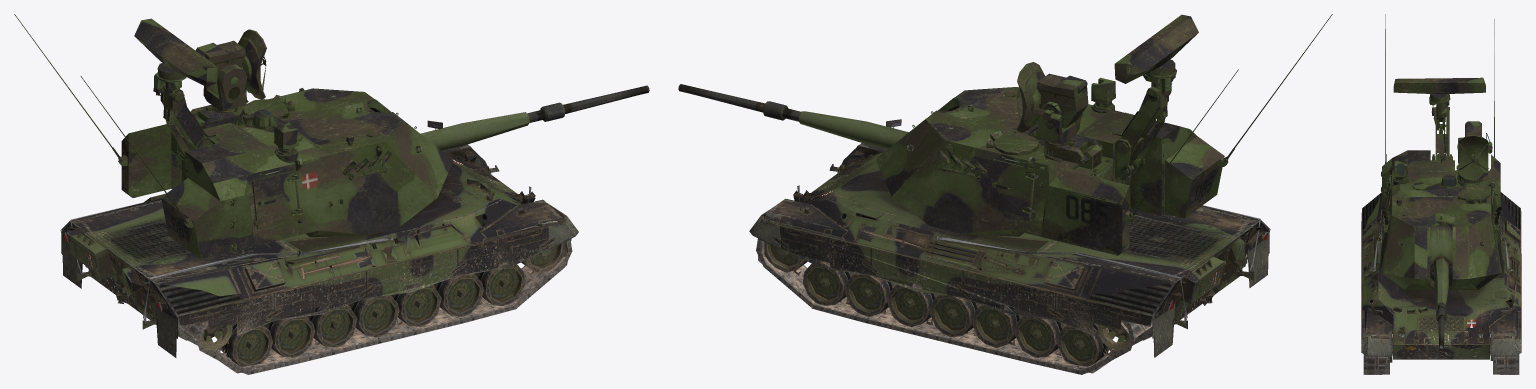
The model's file is Otomatic_DK_MID.fbx.
The picture shows the model from 3 angles, left to right: view 1: azimuth 30°, elevation 25°; view 2: azimuth 150°, elevation 25°; view 3: azimuth 270°, elevation 25°; orthographic projection. The views are drawn at different scales.
Parts seen in each view (by area): view 1: tourelle_01, Chassis, chenille_droite_01, radar, axe_canon_01, roue_d4, roue_d7, roue_d10, roue_d12, roue_d2, roue_d9, roue_d6 (+3 smaller); view 2: tourelle_01, Chassis, chenille_gauche_01, radar, axe_canon_01, roue_g7, roue_g4, roue_g10, roue_g12, roue_g2, roue_g9, roue_g6 (+3 smaller); view 3: tourelle_01, Chassis, axe_canon_01, radar, chenille_droite_01, chenille_gauche_01, canon_01, turret_glass.
Boxes of the visible parts, x1=… form: tourelle_01: x1=14, y1=14, x2=453, y2=259; Chassis: x1=60, y1=120, x2=578, y2=357; chenille_droite_01: x1=178, y1=221, x2=572, y2=374; radar: x1=134, y1=18, x2=217, y2=87; axe_canon_01: x1=420, y1=112, x2=529, y2=150; roue_d4: x1=433, y1=273, x2=483, y2=316; roue_d7: x1=348, y1=295, x2=399, y2=337; roue_d10: x1=263, y1=316, x2=314, y2=357; roue_d12: x1=221, y1=323, x2=272, y2=367; roue_d2: x1=474, y1=261, x2=525, y2=305; roue_d9: x1=307, y1=305, x2=357, y2=347; roue_d6: x1=390, y1=283, x2=441, y2=326; tourelle_01: x1=875, y1=14, x2=1332, y2=255; Chassis: x1=749, y1=119, x2=1270, y2=357; chenille_gauche_01: x1=756, y1=233, x2=1152, y2=374; radar: x1=1114, y1=14, x2=1198, y2=83; axe_canon_01: x1=799, y1=108, x2=957, y2=148; roue_g7: x1=930, y1=294, x2=981, y2=336; roue_g4: x1=845, y1=273, x2=895, y2=316; roue_g10: x1=1014, y1=316, x2=1066, y2=357; roue_g12: x1=1057, y1=323, x2=1109, y2=368; roue_g2: x1=802, y1=260, x2=854, y2=305; roue_g9: x1=972, y1=305, x2=1022, y2=347; roue_g6: x1=887, y1=283, x2=938, y2=327; tourelle_01: x1=1380, y1=14, x2=1502, y2=289; Chassis: x1=1361, y1=192, x2=1521, y2=362; axe_canon_01: x1=1430, y1=224, x2=1452, y2=308; radar: x1=1393, y1=77, x2=1485, y2=95; chenille_droite_01: x1=1363, y1=329, x2=1389, y2=374; chenille_gauche_01: x1=1493, y1=354, x2=1519, y2=374; canon_01: x1=1436, y1=303, x2=1446, y2=348; turret_glass: x1=1397, y1=164, x2=1453, y2=185.
Size of the model in its own units: 10.15 by 3.41 by 5.19.
Materials: 6 (6 with a texture image).
